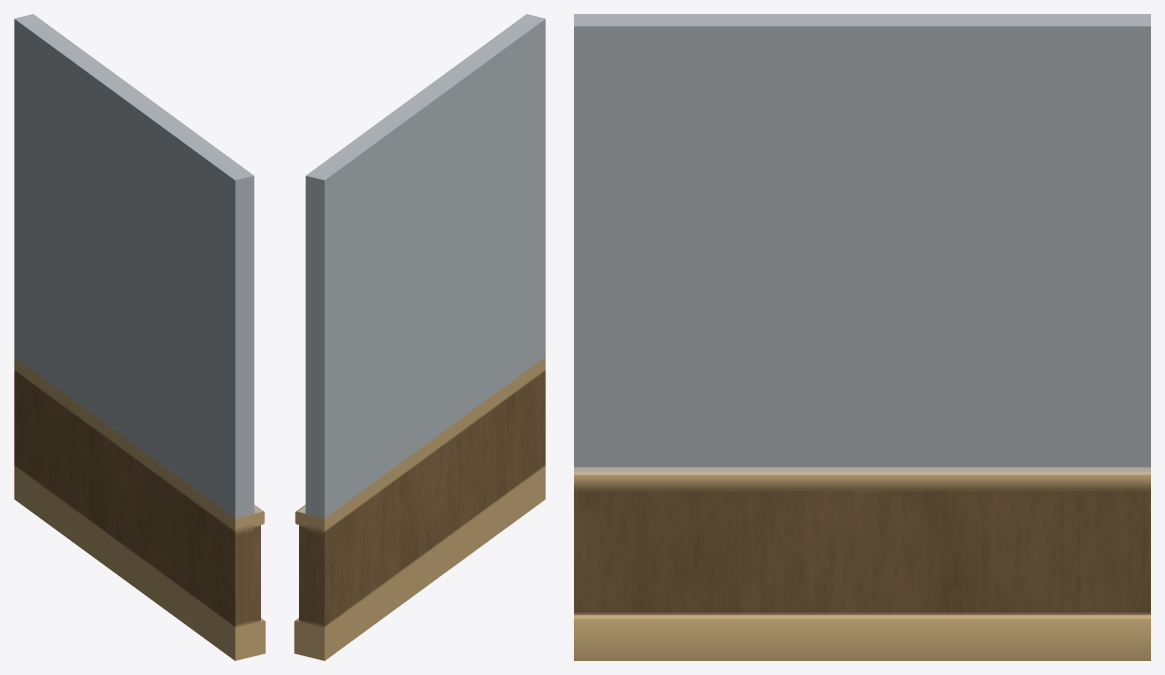
Rendered from Mur_M.fbx.
3 renders of one model, left to right at view 1: azimuth 30°, elevation 25°; view 2: azimuth 150°, elevation 25°; view 3: azimuth 270°, elevation 25°, orthographic. The views are drawn at different scales.
Parts seen in each view (by area): view 1: Mur; view 2: Mur; view 3: Mur.
Boxes of the visible parts, x1,y1,x2,y2 form: Mur: (14, 14, 265, 660); Mur: (294, 14, 545, 660); Mur: (574, 14, 1150, 660).
Size of the model in its own units: 0.16 by 2.4 by 2.
Materials: 1 (1 with a texture image).
